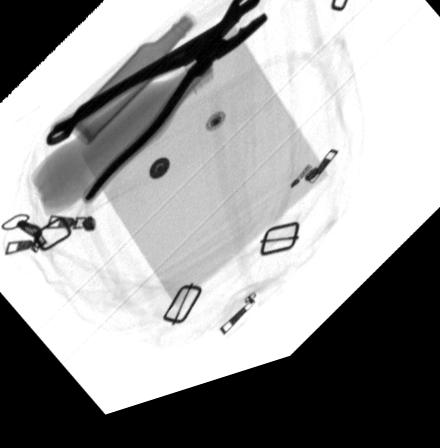Pliers: (48, 7, 272, 209)
Wrench: (45, 5, 262, 152)
